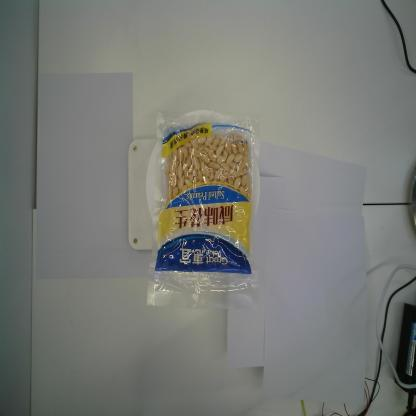Dried Fruit: (146, 107, 261, 310)
